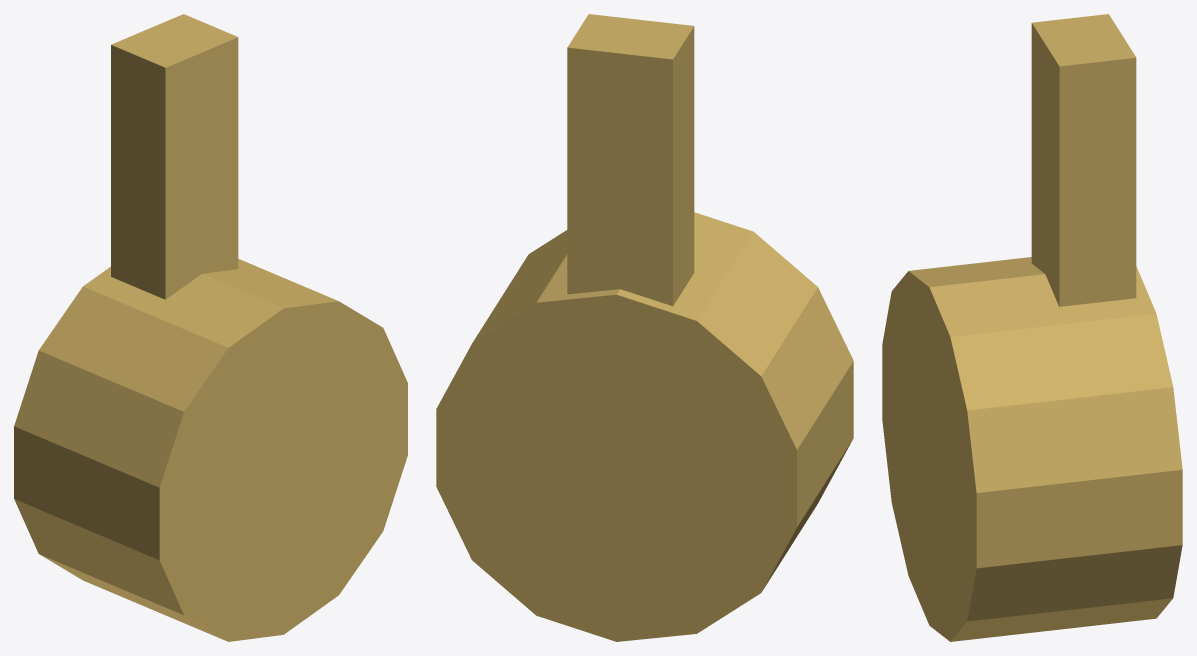
The model's file is source.glb.
3 views of the same model, side by side, from view 1: azimuth 30°, elevation 25°; view 2: azimuth 150°, elevation 25°; view 3: azimuth 270°, elevation 25° (orthographic). The views are drawn at different scales.
Parts seen in each view (by area): view 1: log_src_knob, log_src_ptr; view 2: log_src_knob, log_src_ptr; view 3: log_src_knob, log_src_ptr.
Boxes of the visible parts, x1,y1,x2,y2 form: log_src_knob: (14, 259, 407, 641); log_src_ptr: (111, 14, 238, 299); log_src_knob: (436, 212, 853, 641); log_src_ptr: (567, 14, 694, 306); log_src_knob: (882, 257, 1182, 641); log_src_ptr: (1031, 14, 1136, 306).
Bounding box in the file's own units: 0.0305 × 0.047 × 0.0225.
